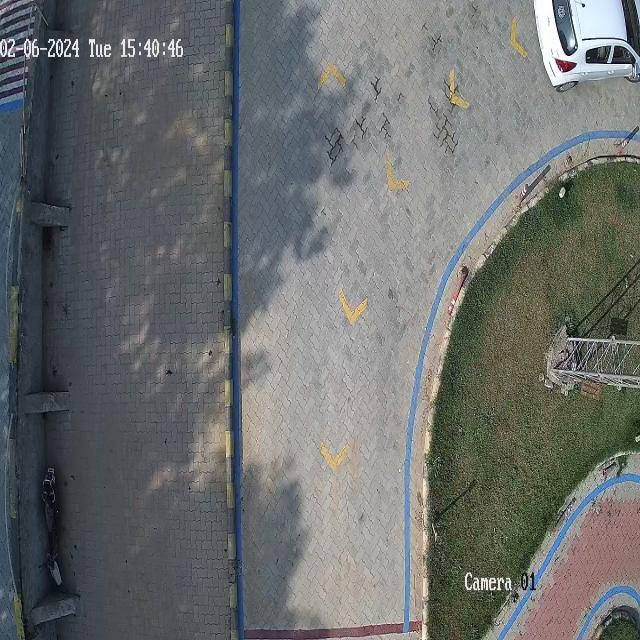car: (534, 0, 640, 90)
